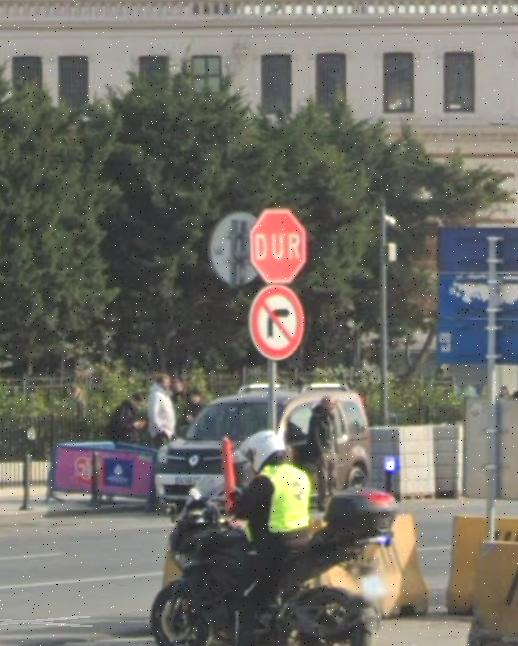rightturnsareforbidden: (250, 283, 304, 361)
stop: (251, 208, 305, 283)
